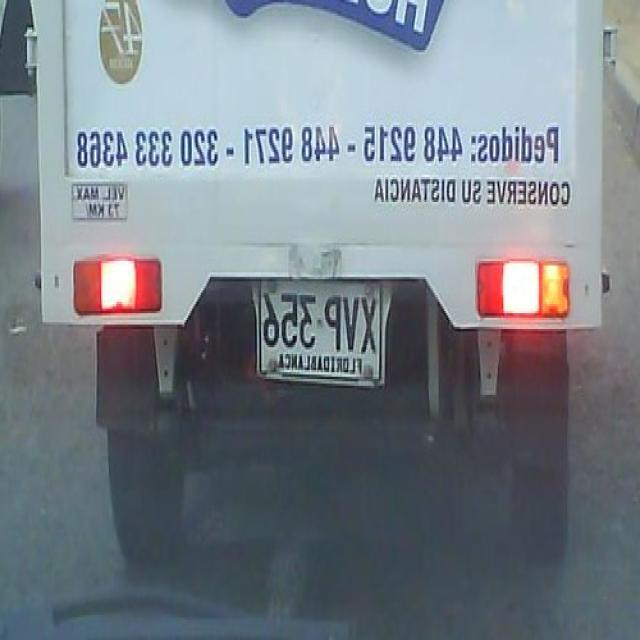placas: (261, 286, 381, 355)
